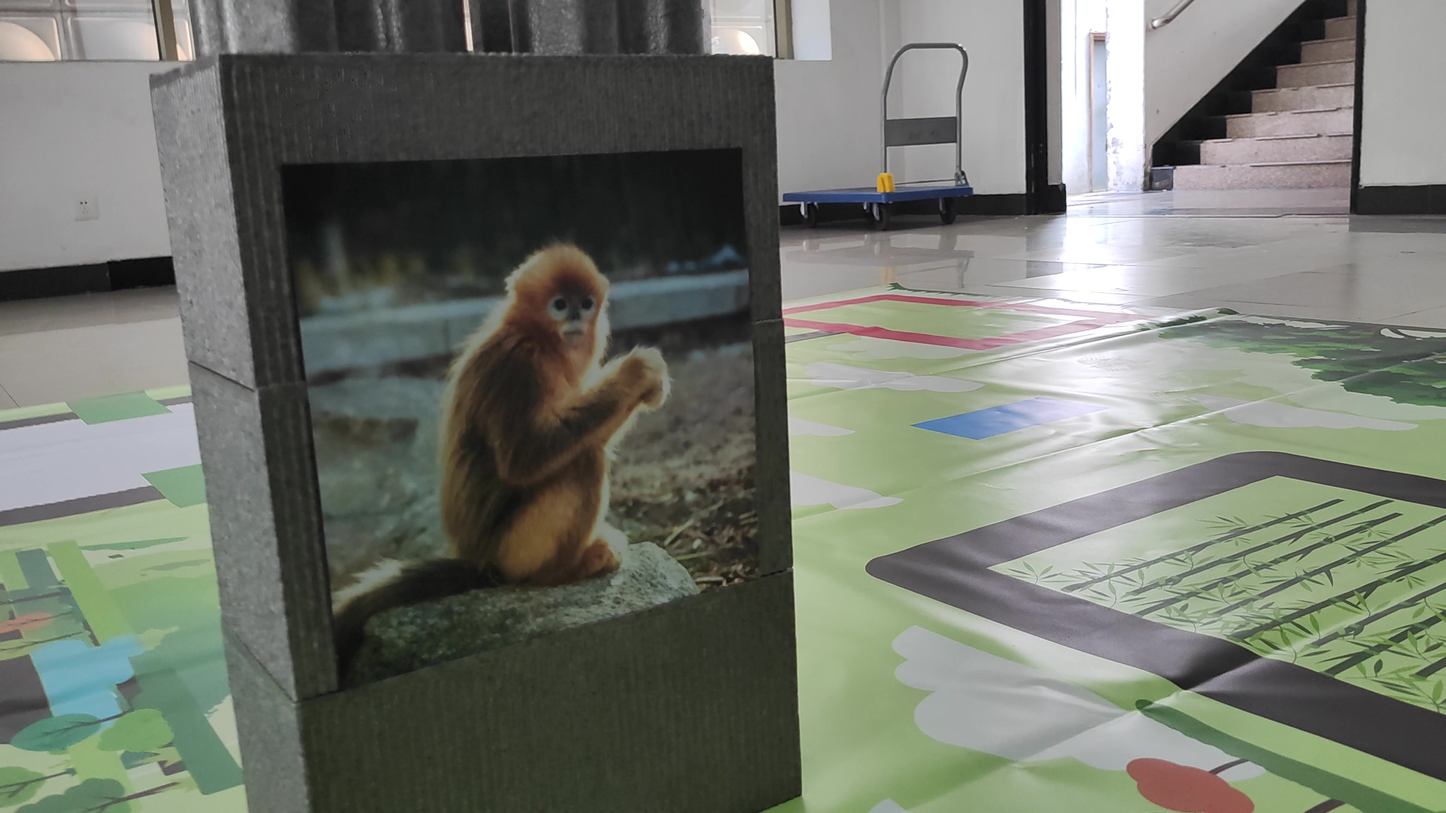monkey: (324, 202, 697, 638)
